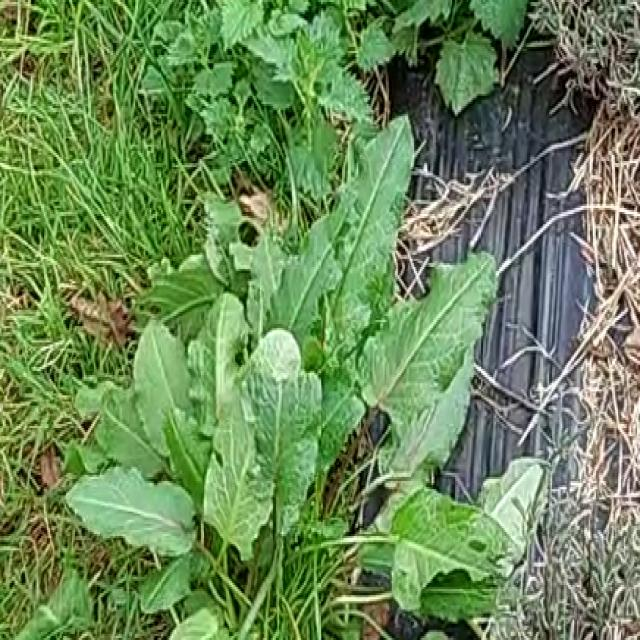organic waste: (94, 126, 500, 624)
